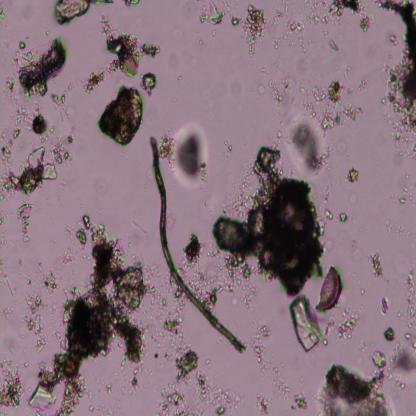Background material: (29, 213, 150, 415), (212, 147, 324, 300), (377, 0, 416, 162), (317, 361, 394, 415), (161, 125, 210, 189), (98, 84, 144, 146), (0, 144, 57, 194), (99, 13, 141, 78), (20, 37, 66, 96), (194, 370, 244, 416), (288, 124, 330, 174), (290, 296, 322, 354), (320, 84, 356, 128), (322, 307, 359, 348), (311, 0, 363, 28), (288, 76, 324, 116), (242, 5, 268, 57), (26, 293, 47, 353), (197, 262, 224, 307), (158, 382, 194, 415), (0, 356, 22, 409), (248, 325, 272, 372), (2, 56, 23, 103), (54, 0, 91, 26), (82, 64, 116, 92), (270, 361, 291, 403), (392, 344, 416, 378), (54, 129, 76, 166), (268, 74, 295, 104), (172, 350, 198, 380), (0, 261, 19, 301), (382, 221, 416, 242), (197, 3, 225, 28), (394, 180, 416, 211), (12, 105, 31, 139), (407, 267, 416, 338), (184, 233, 202, 267), (160, 312, 182, 339), (367, 249, 384, 282), (18, 203, 32, 242), (125, 364, 140, 398), (268, 26, 290, 47), (40, 270, 57, 294), (254, 390, 269, 415), (142, 72, 158, 95), (372, 347, 387, 370), (92, 175, 108, 196), (270, 6, 289, 23), (292, 393, 309, 412), (32, 112, 46, 135), (140, 44, 161, 58), (52, 90, 68, 108), (359, 15, 374, 34), (74, 229, 88, 248), (288, 19, 304, 35), (0, 305, 15, 322), (347, 166, 361, 184), (254, 79, 265, 98), (166, 50, 178, 66), (0, 3, 8, 27), (380, 296, 390, 315), (384, 326, 395, 343), (91, 0, 116, 6), (82, 213, 92, 228), (329, 40, 340, 52), (338, 211, 348, 224), (0, 236, 13, 245), (124, 1, 141, 7), (177, 72, 184, 86), (0, 210, 4, 225), (260, 66, 267, 74), (196, 38, 203, 46), (411, 339, 416, 350)
Diatom: (314, 267, 342, 311)
